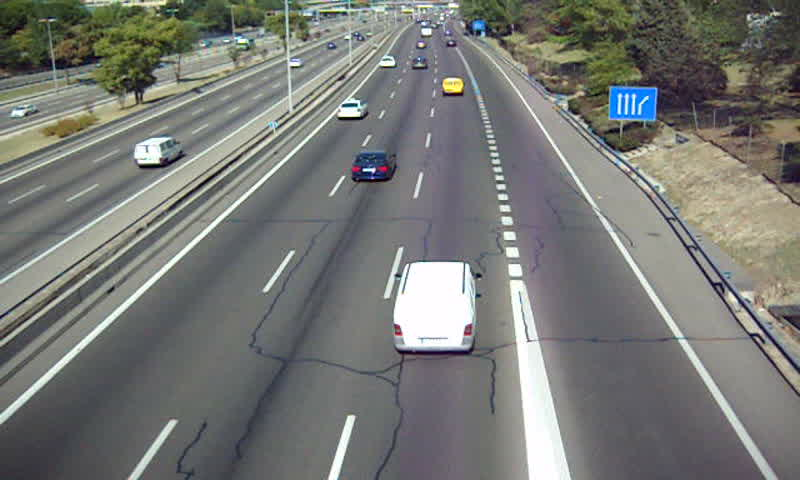car: (352, 151, 397, 180), (336, 100, 368, 120), (410, 56, 428, 70), (378, 55, 395, 68)
van: (392, 262, 475, 352), (442, 77, 464, 95)
